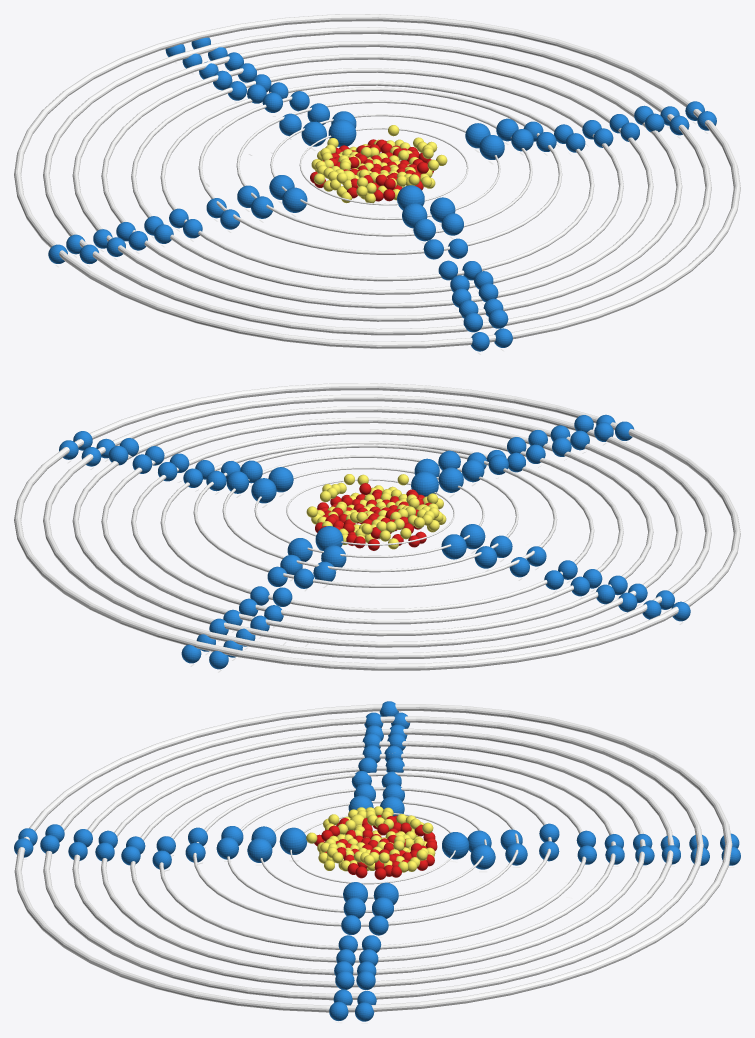
3 renders of one model, top to bottom at view 1: azimuth 30°, elevation 25°; view 2: azimuth 150°, elevation 25°; view 3: azimuth 270°, elevation 25°, orthographic.
Visible parts, largest first — view 1: Torus.010, Torus.009, Torus.008, Torus.007, Torus.006, Torus.005, Torus.004, Torus.003, Torus.002, Torus.001, g; view 2: Torus.010, Torus.009, Torus.008, Torus.007, Torus.006, Torus.005, Torus.004, Torus.003, Torus.002, Torus.001, g.001, g (+3 smaller); view 3: Torus.010, Torus.009, Torus.008, Torus.007, Torus.006, Torus.005, Torus.004, Torus.003, Torus.002, g.001, g, Torus.001.
Part boxes in pixels (x1,y1,x2,y2): Torus.010: (14, 14, 740, 348); Torus.009: (43, 27, 711, 335); Torus.008: (72, 41, 682, 321); Torus.007: (101, 54, 653, 308); Torus.006: (131, 68, 623, 294); Torus.005: (160, 81, 594, 281); Torus.004: (198, 87, 562, 254); Torus.003: (236, 100, 532, 236); Torus.002: (270, 114, 500, 219); Torus.001: (299, 127, 468, 205); g: (328, 119, 356, 147); Torus.010: (14, 383, 740, 670); Torus.009: (43, 394, 711, 659); Torus.008: (72, 406, 682, 647); Torus.007: (101, 417, 653, 636); Torus.006: (131, 429, 623, 624); Torus.005: (160, 441, 594, 612); Torus.004: (193, 444, 557, 587); Torus.003: (222, 455, 518, 572); Torus.002: (254, 467, 484, 557); Torus.001: (286, 478, 454, 545); g.001: (411, 471, 438, 496); g: (315, 526, 343, 550); Torus.010: (14, 704, 732, 1012); Torus.009: (43, 716, 703, 1000); Torus.008: (72, 728, 674, 987); Torus.007: (101, 741, 645, 975); Torus.006: (130, 753, 616, 962); Torus.005: (159, 766, 586, 950); Torus.004: (193, 772, 551, 926); Torus.003: (227, 787, 519, 912); Torus.002: (260, 801, 486, 898); g.001: (279, 827, 307, 854); g: (442, 832, 469, 859); Torus.001: (290, 813, 455, 884).
Size of the model in its own units: 26.34 by 2.85 by 26.16.
